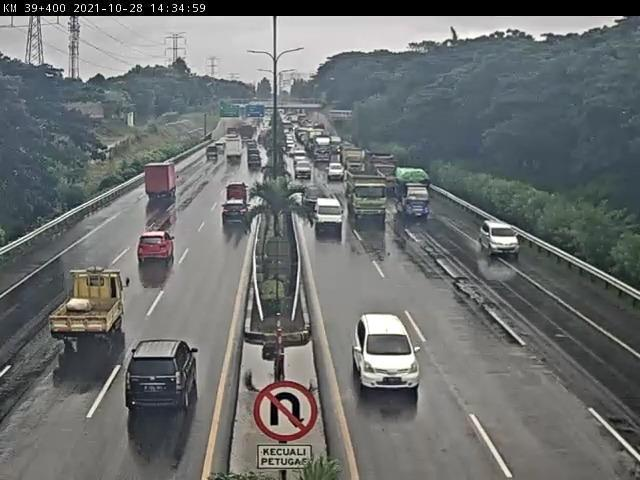car: (120, 334, 204, 424), (356, 313, 423, 399), (477, 218, 521, 265), (130, 235, 177, 279), (316, 197, 347, 238), (225, 196, 253, 234), (220, 185, 252, 211), (329, 162, 346, 186), (296, 162, 314, 180), (303, 186, 320, 205)
truck: (46, 260, 133, 355), (141, 150, 191, 205), (349, 175, 390, 231), (392, 168, 430, 226)
